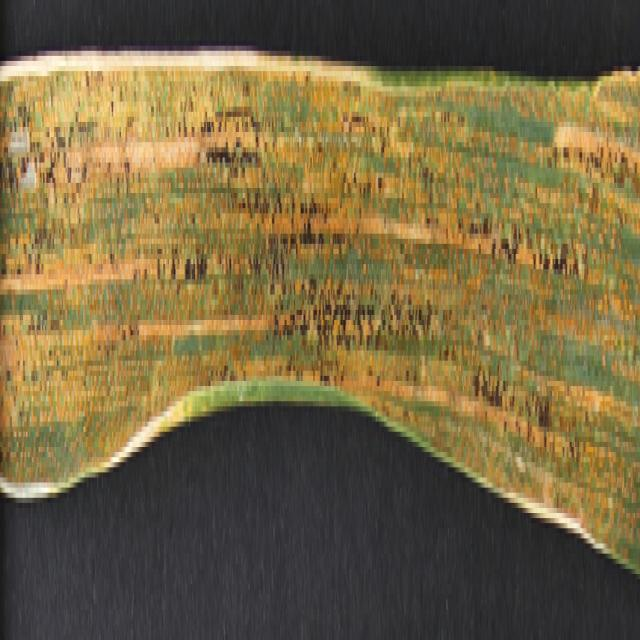leaf rust: (0, 76, 640, 558)
